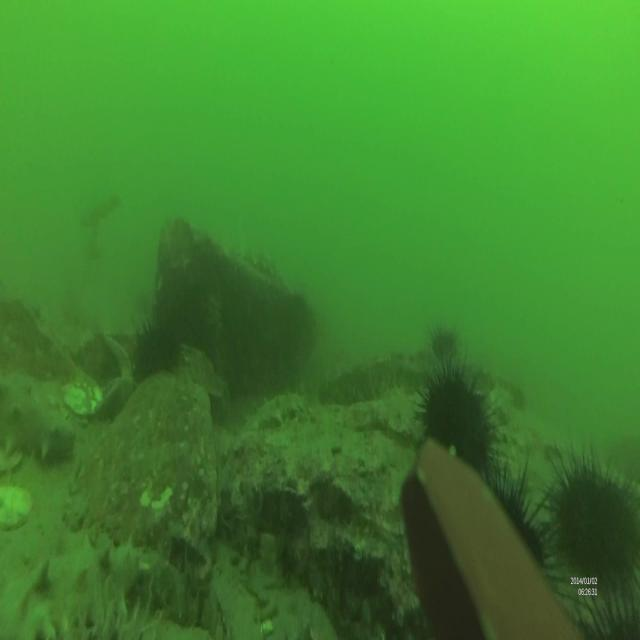echinus: (548, 433, 636, 587), (483, 452, 559, 604), (416, 365, 502, 466), (576, 578, 640, 637), (132, 313, 182, 382), (429, 320, 457, 358)
holothurian: (1, 533, 149, 640), (1, 365, 75, 468), (241, 242, 283, 280)
